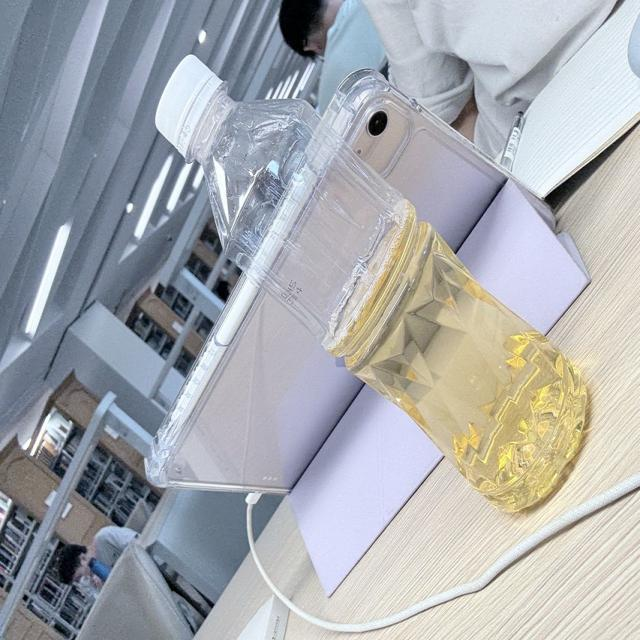medium: (156, 56, 585, 508)
